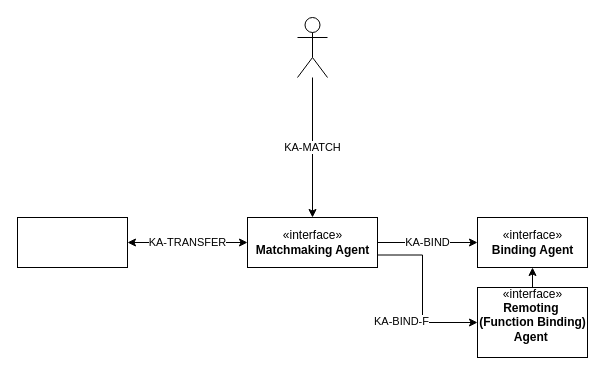
This 605x376 diagram has some shape labels left out. Here are the shapes that lost their labels. From the top down, the centre of each, then its label:
[312,47]: User / Application
[72,242]: «interface» Eclipse Dataspace Connector
